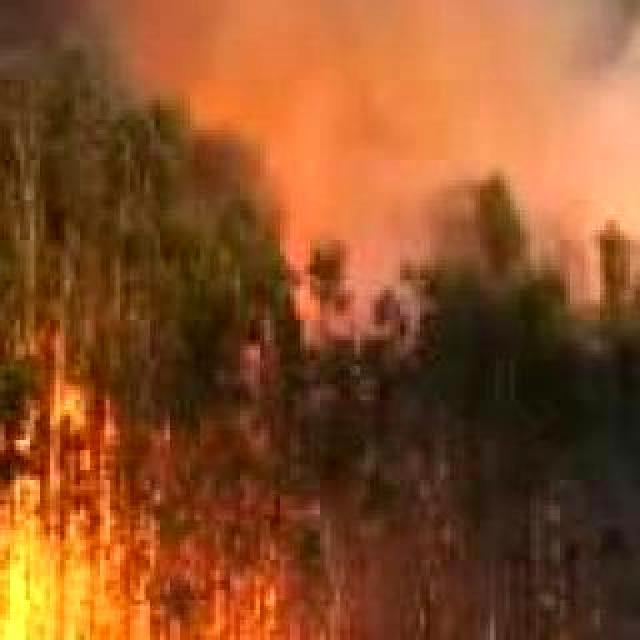fire: (0, 410, 322, 640)
